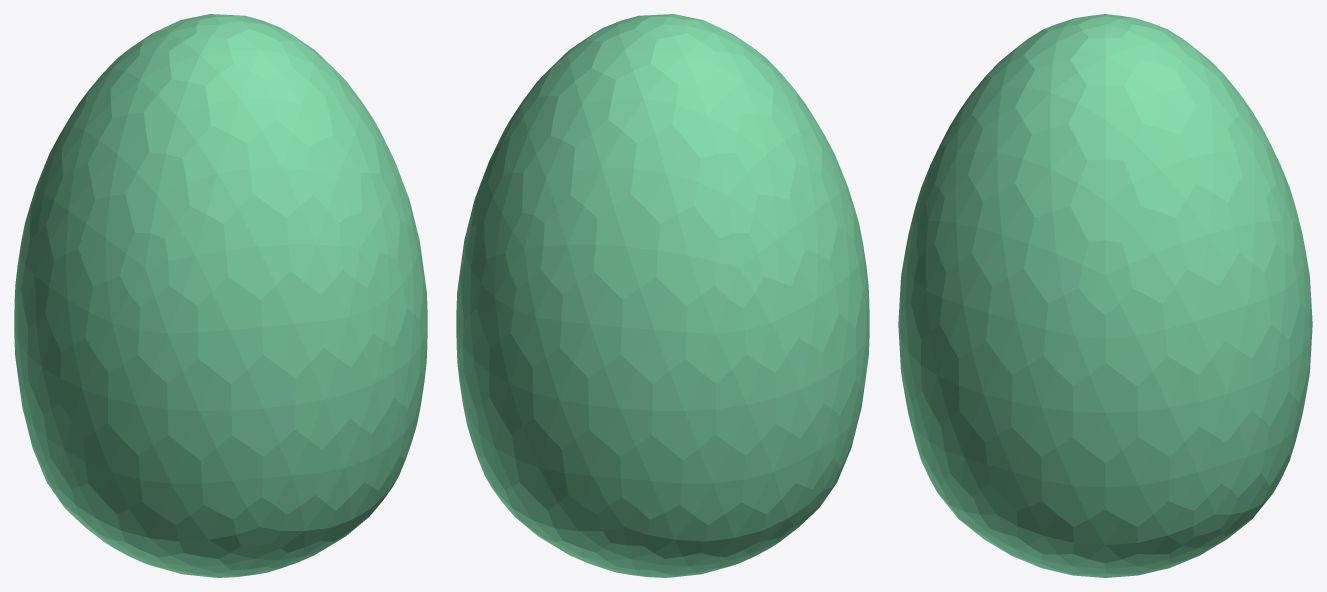
The model's file is Egg.fbx.
The picture shows the model from 3 angles, left to right: view 1: azimuth 30°, elevation 25°; view 2: azimuth 150°, elevation 25°; view 3: azimuth 270°, elevation 25°; orthographic projection.
Parts seen in each view (by area): view 1: Egg 1; view 2: Egg 1; view 3: Egg 1.
Boxes of the visible parts, x1,y1,x2,y2 form: Egg 1: (14, 14, 427, 577); Egg 1: (456, 14, 869, 577); Egg 1: (898, 14, 1312, 577).
Size of the model in its own units: 48.11 by 68.37 by 48.13.
